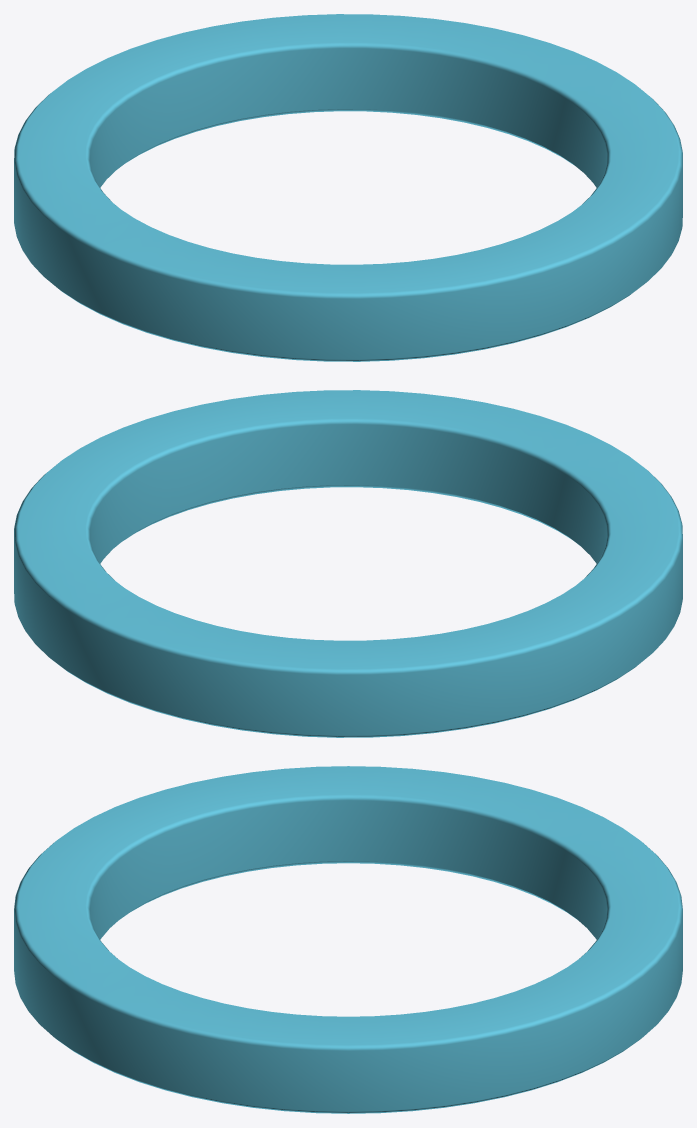
3 renders of one model, top to bottom at view 1: azimuth 30°, elevation 25°; view 2: azimuth 150°, elevation 25°; view 3: azimuth 270°, elevation 25°, orthographic.
Visible parts, largest first — view 1: seal_body; view 2: seal_body; view 3: seal_body.
Boxes of the visible parts, x1=… form: seal_body: x1=14, y1=14, x2=682, y2=361; seal_body: x1=14, y1=390, x2=682, y2=737; seal_body: x1=14, y1=766, x2=682, y2=1113.
Size of the model in its own units: 0.0698 by 0.00793 by 0.0698.
